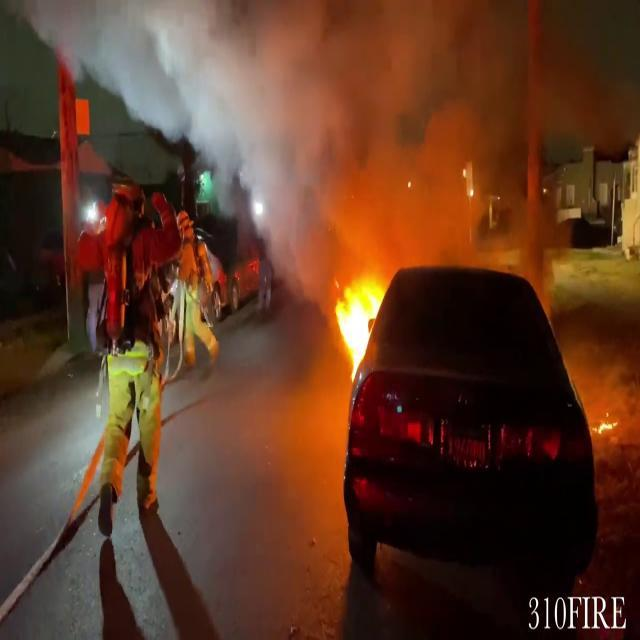Fire: (332, 266, 385, 378)
Smoke: (224, 0, 578, 275)
